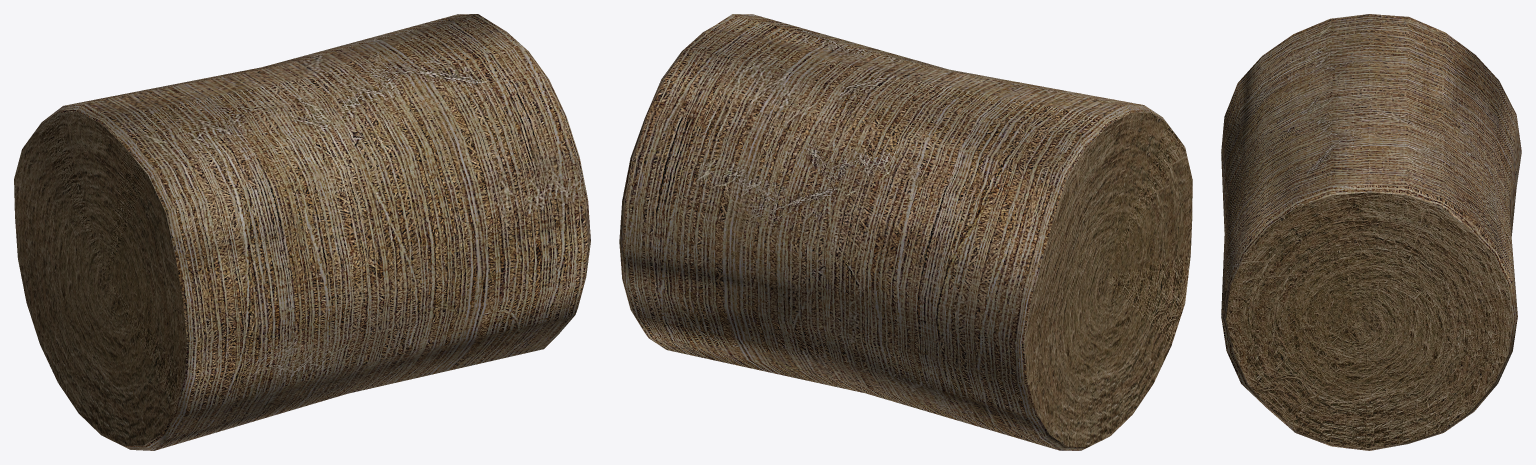
The model's file is Cover_Cd01.glb.
The picture shows the model from 3 angles, left to right: view 1: azimuth 30°, elevation 25°; view 2: azimuth 150°, elevation 25°; view 3: azimuth 270°, elevation 25°; orthographic projection. The views are drawn at different scales.
Visible parts, largest first — view 1: xiutz_cd_01; view 2: xiutz_cd_01; view 3: xiutz_cd_01.
Part boxes in pixels (x1,y1,x2,y2): xiutz_cd_01: (14,14,590,450); xiutz_cd_01: (619,14,1192,450); xiutz_cd_01: (1221,14,1521,450).
Bounding box in the file's own units: 2.26 × 1.69 × 1.66.
Materials: 1 (1 with a texture image).
